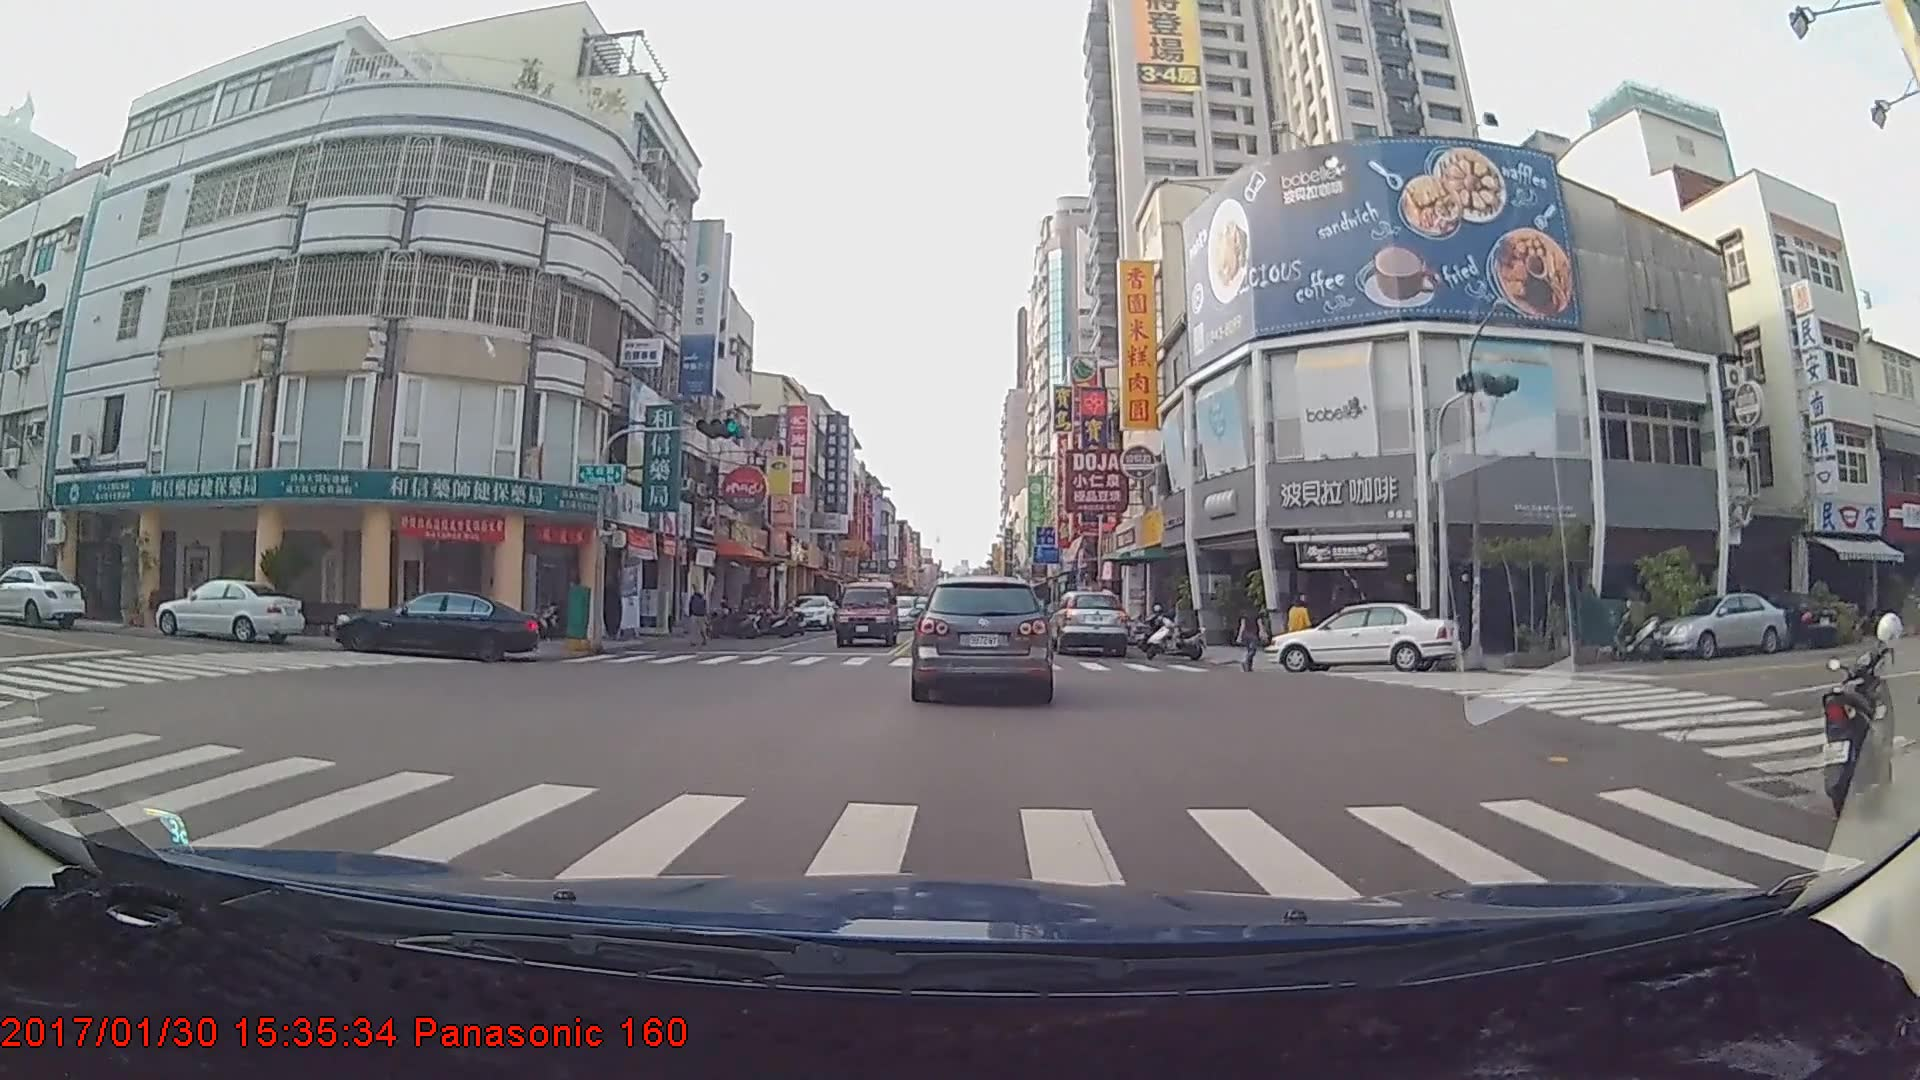pedestrian: (1238, 595, 1268, 673), (1285, 594, 1315, 668), (686, 586, 712, 647)
vehicle: (914, 576, 1049, 701), (330, 585, 540, 658), (1268, 600, 1459, 671), (158, 575, 307, 647), (1652, 590, 1788, 658), (0, 560, 88, 628), (1048, 584, 1127, 652), (833, 578, 900, 646), (787, 591, 834, 630)
